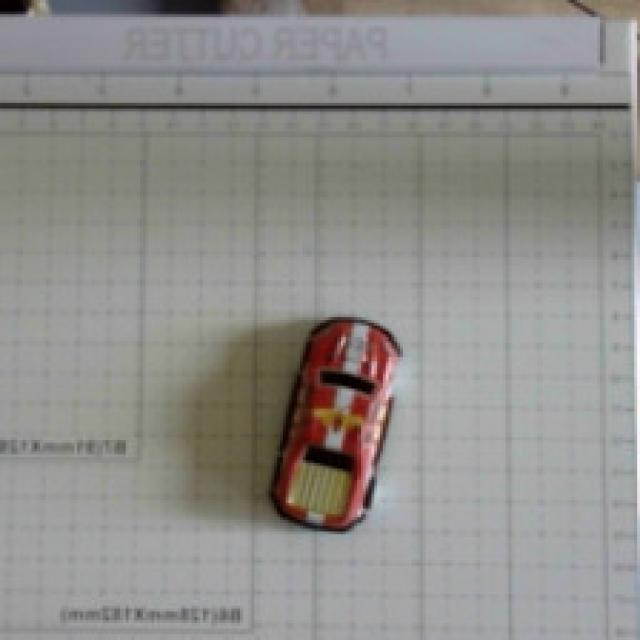Red Car: (231, 291, 423, 553)
